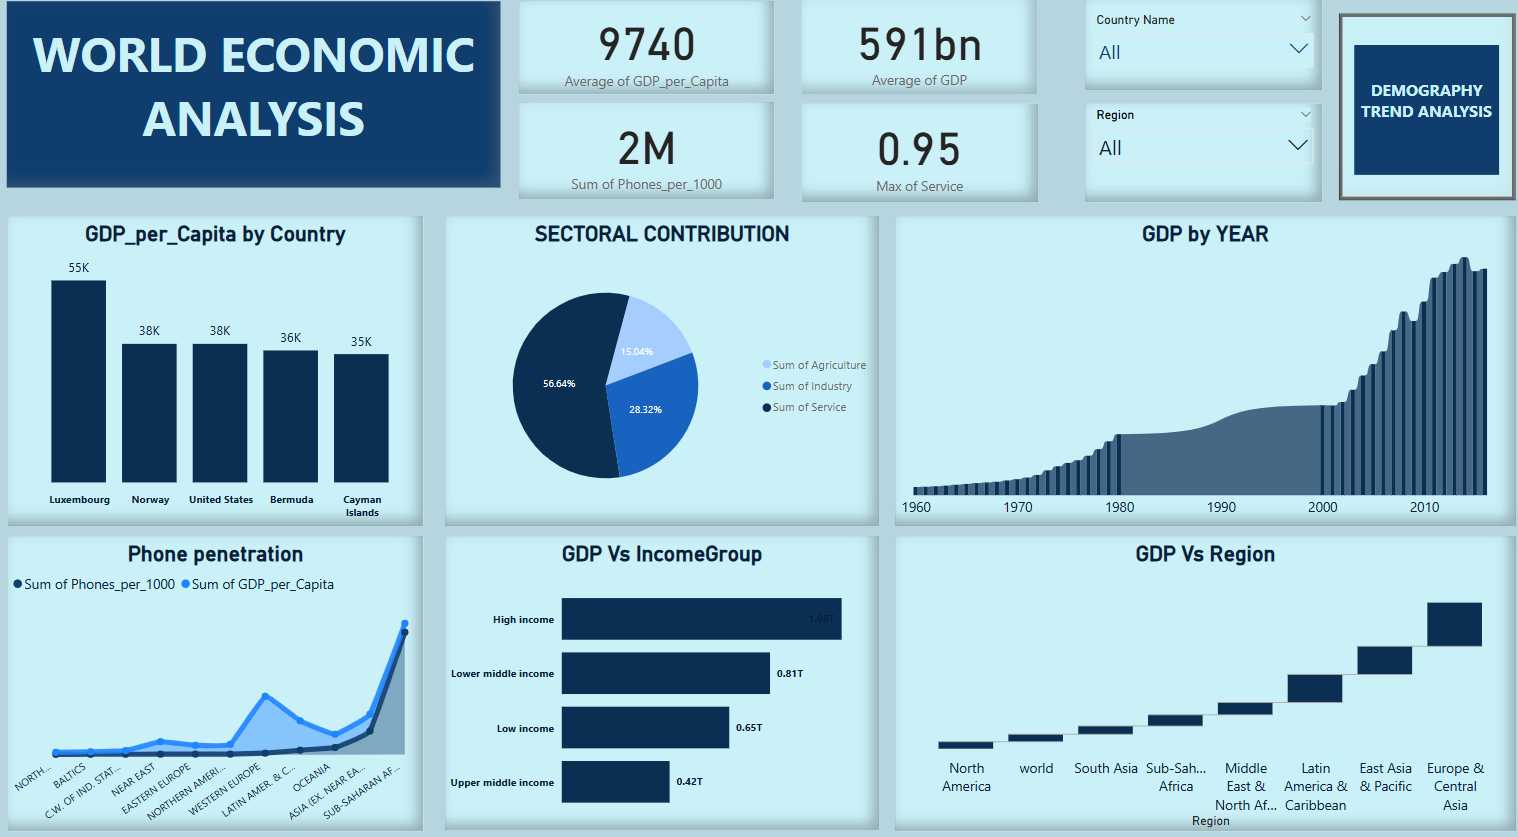

This screenshot's page, from the dashboard's own definition file:
{"tool":"powerbi","page":{"name":"ECONOMIC ANALYSIS DASHBOARD","canvas":[1800,1000],"ordinal":5},"visuals":[{"type":"waterfallChart","title":"GDP Vs Region","fields":{"Category":["METGDP.Region"],"Y":["Sum(METGDP.GDP.GDP)"]},"box":[1055.7,631.1,729.5,347.5],"z":0},{"type":"clusteredBarChart","title":" GDP Vs IncomeGroup","fields":{"Category":["METGDP.IncomeGroup"],"Y":["Avg(METGDP.GDP.GDP)"]},"box":[526.2,631.1,509.8,345.9],"z":1000},{"type":"ribbonChart","fields":{"Category":["GDP.YEAR"],"Y":["Sum(GDP.GDP)"]},"box":[1055.7,254.1,729.5,363.9],"z":2000},{"type":"pieChart","title":"SECTORAL CONTRIBUTION","fields":{"Y":["Sum(countries countries_world.Agriculture)","Sum(countries countries_world.Industry)","Sum(countries countries_world.Service)"]},"box":[526.2,254.1,509.8,363.9],"z":3000},{"type":"card","fields":{"Values":["Avg(countries countries_world.GDP_per_Capita)"]},"box":[613.8,1.5,300,109.2],"z":4000},{"type":"stackedAreaChart","title":"Phone penetration","fields":{"Category":["countries countries_world.Region"],"Y":["Sum(countries countries_world.Phones_per_1000)","Sum(countries countries_world.GDP_per_Capita)"]},"box":[11.5,631.1,488.5,347.5],"z":5000},{"type":"columnChart","title":" GDP_per_Capita by Country","fields":{"Category":["countries countries_world.Country"],"Y":["Sum(countries countries_world.GDP_per_Capita)"]},"box":[11.5,254.1,488.5,363.9],"z":6000},{"type":"card","fields":{"Values":["Sum(countries countries_world.Phones_per_1000)"]},"box":[613.8,120,300,113.8],"z":7000},{"type":"card","fields":{"Values":["Avg(GDP.GDP)"]},"box":[946.2,0,276.9,110.8],"z":8000},{"type":"card","fields":{"Values":["Max(countries countries_world.Service)"]},"box":[946.3,122.4,277.6,114.9],"z":9000},{"type":"textbox","box":[10.4,1.5,580.6,219.4],"z":10000},{"type":"slicer","fields":{"Values":["countries countries_world.Region"]},"box":[1280,121.8,278.2,116.4],"z":11000},{"type":"slicer","fields":{"Values":["countries countries_world.Country"]},"box":[1280,0,278.2,105.5],"z":12000},{"type":"actionButton","box":[1577.6,16.4,207.5,219.4],"z":13000},{"type":"textbox","box":[1595.7,52.9,170,152.9],"z":14000}]}

Visuals, with their boxes in screenshot pixels (x1, y1, x2, y2), scaled from the page's 1800x1000 canvas onto the 1518x837 screenshot:
"GDP Vs Region" waterfallChart: 890/528/1506/819
" GDP Vs IncomeGroup" clusteredBarChart: 444/528/874/818
ribbonChart - GDP.YEAR x Sum(GDP.GDP): 890/213/1506/517
"SECTORAL CONTRIBUTION" pieChart: 444/213/874/517
card - Avg(countries countries_world.GDP_per_Capita): 518/1/771/93
"Phone penetration" stackedAreaChart: 10/528/422/819
" GDP_per_Capita by Country" columnChart: 10/213/422/517
card - Sum(countries countries_world.Phones_per_1000): 518/100/771/196
card - Avg(GDP.GDP): 798/0/1031/93
card - Max(countries countries_world.Service): 798/102/1032/199
textbox: 9/1/498/185
slicer - countries countries_world.Region: 1079/102/1314/199
slicer - countries countries_world.Country: 1079/0/1314/88
actionButton: 1330/14/1505/197
textbox: 1346/44/1489/172
